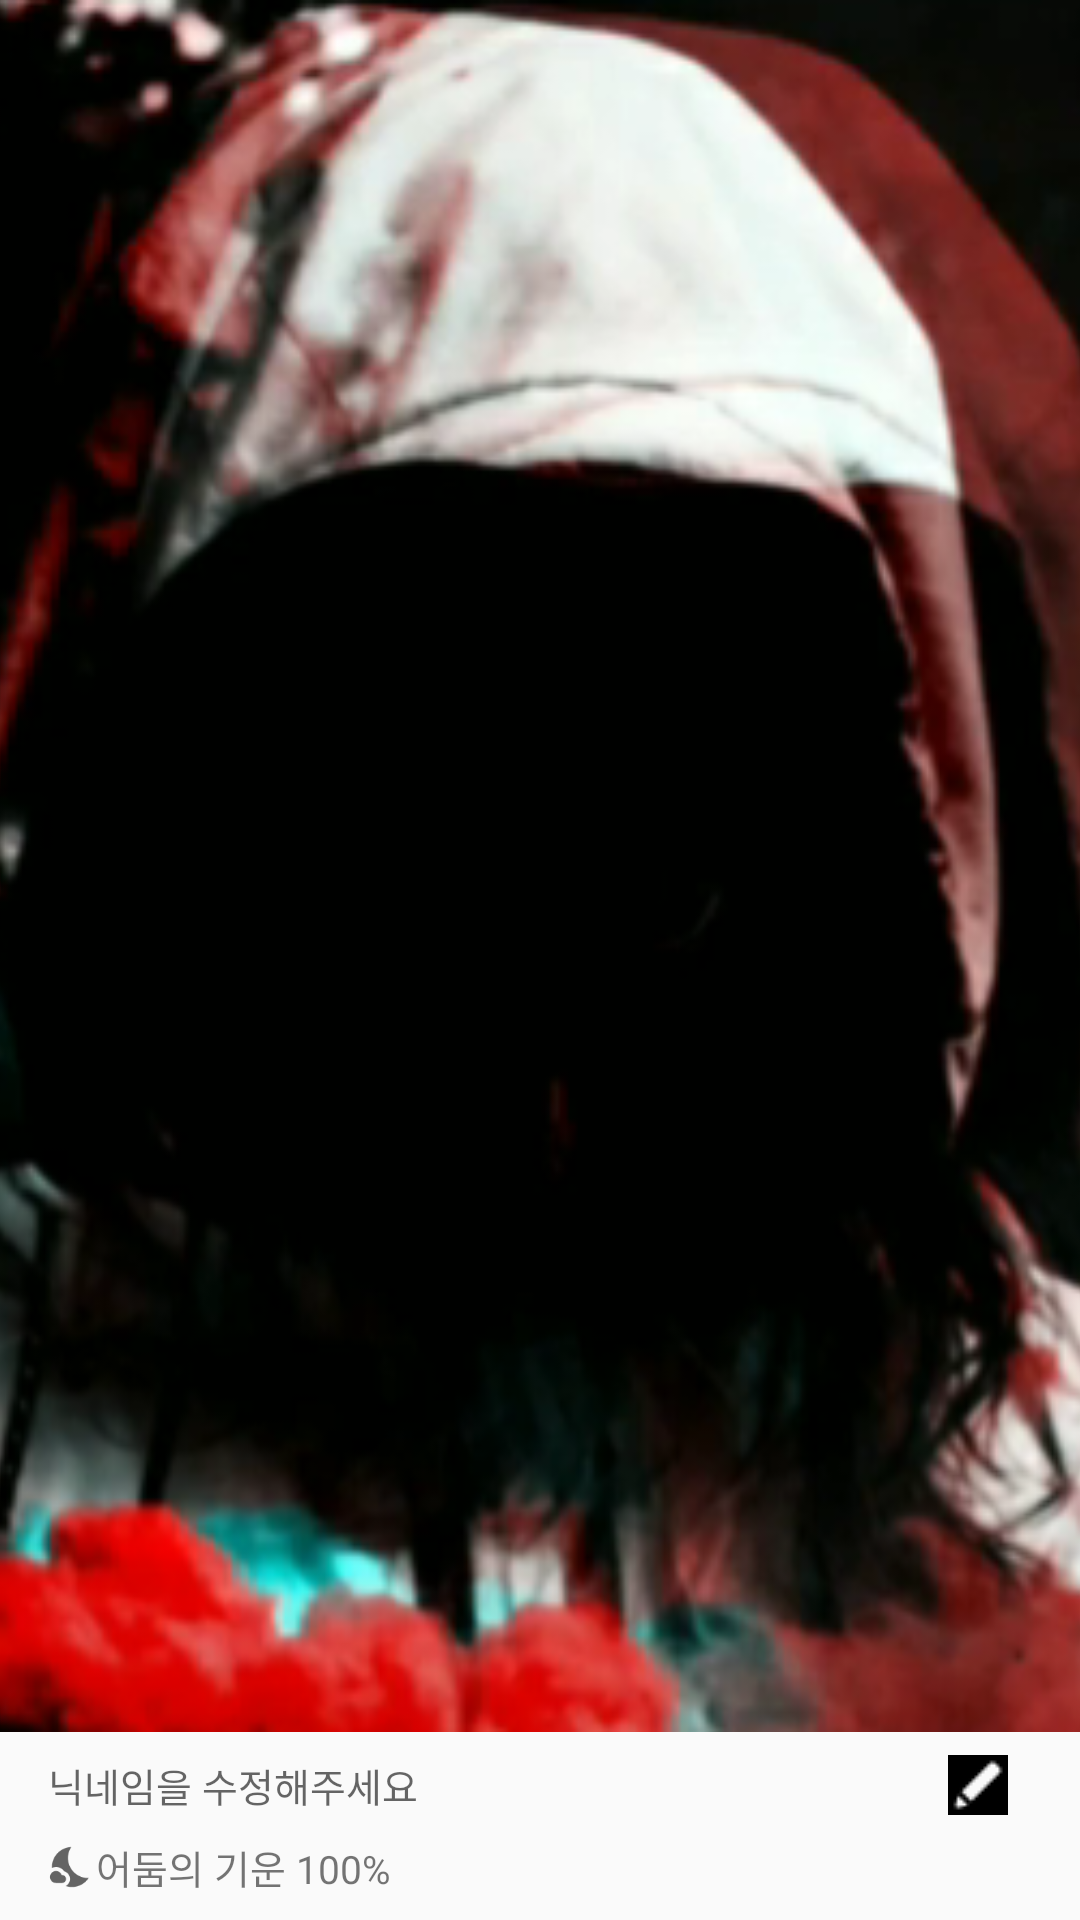

Where to tap for icons on this 1080w x 1920h app screen, as point (x, y):
pen: point (978, 1785)
